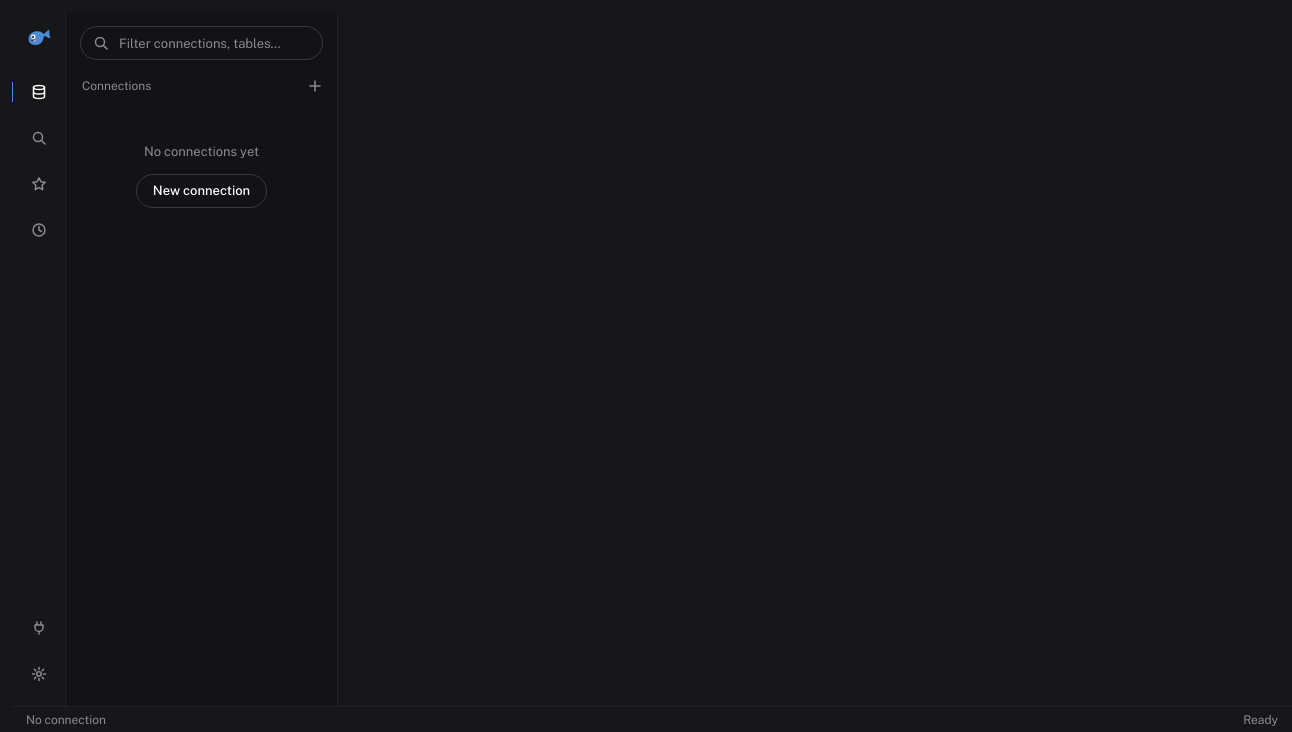
Test case: the rail button hides the explorer and the workspace takes its column
The width and height of the screenshot is (1292, 732).
Expected: the element with class "explorer" is shown, [66,12,338,706]
Click the button named "Explorer" at (38, 92), box [12,72,66,112]
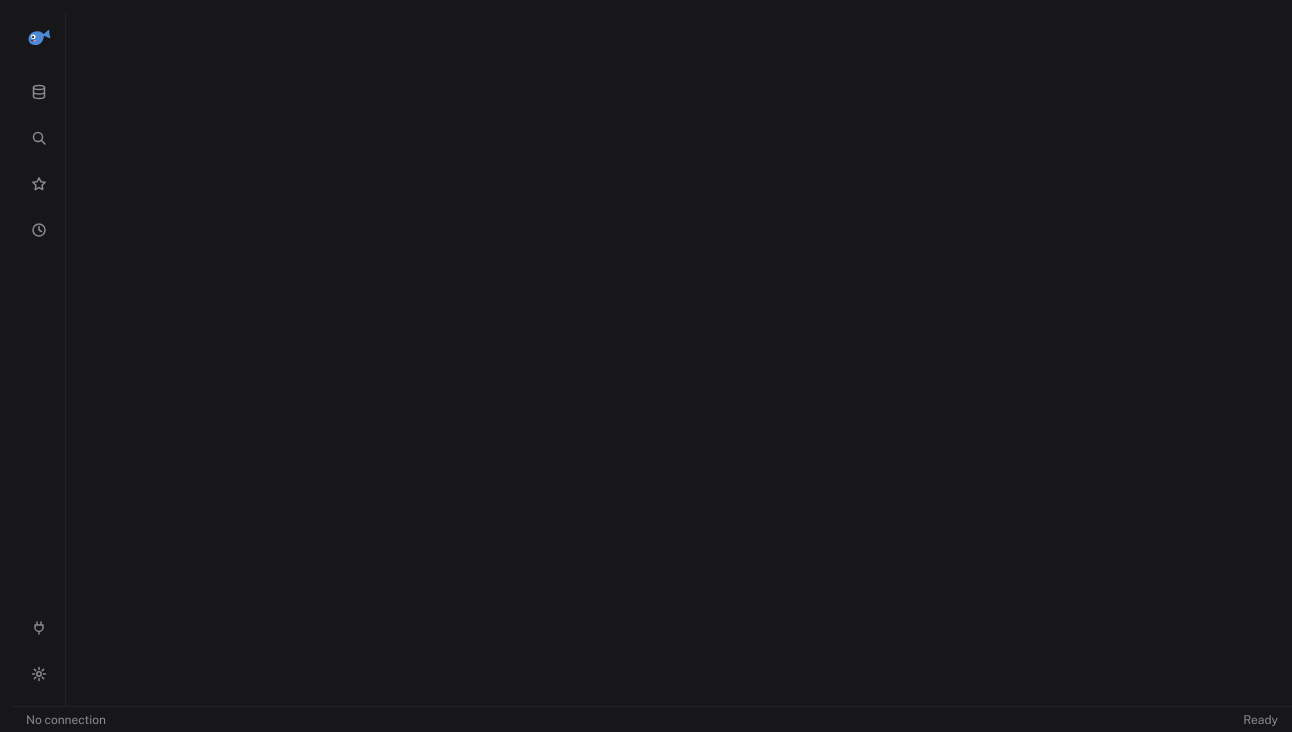
Expected: the text "Connections No connections yet New connection" is gone
Click the button named "Explorer" at (38, 92), box [12,72,66,112]
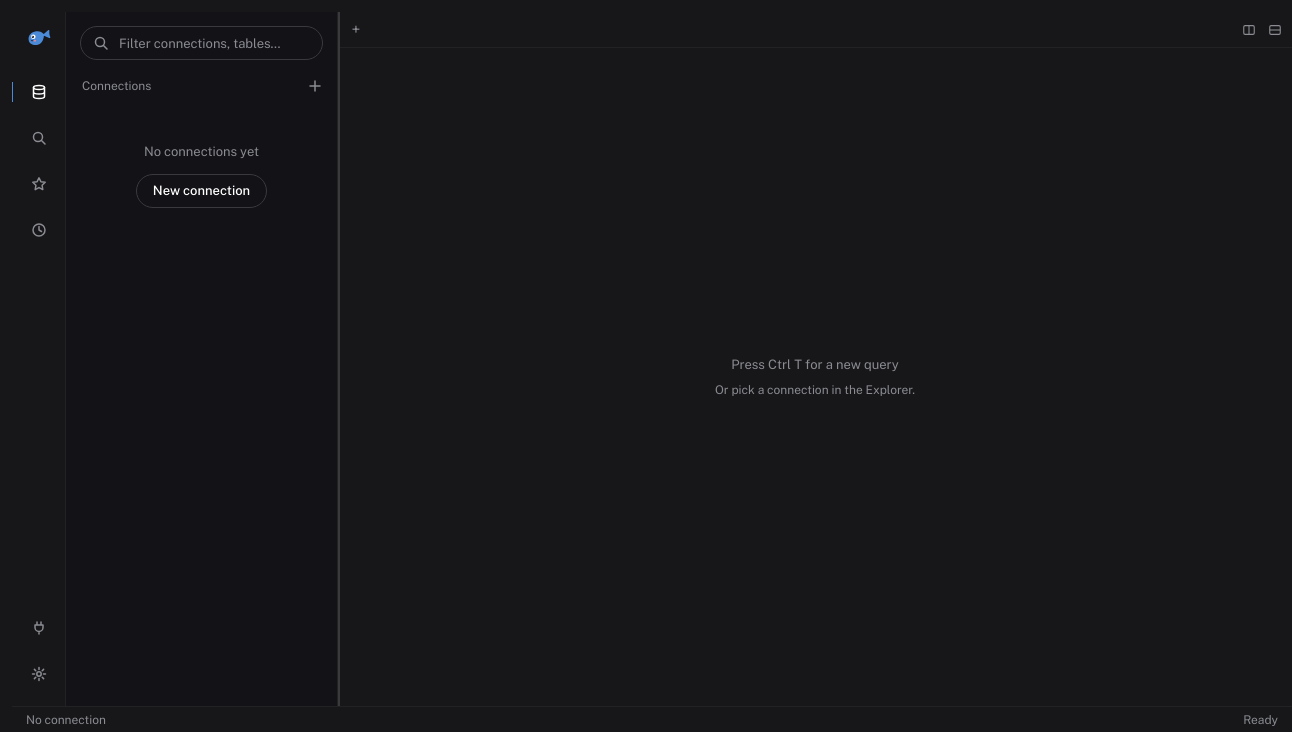
Expected: the element with class "explorer" is shown, [66,12,338,706]
